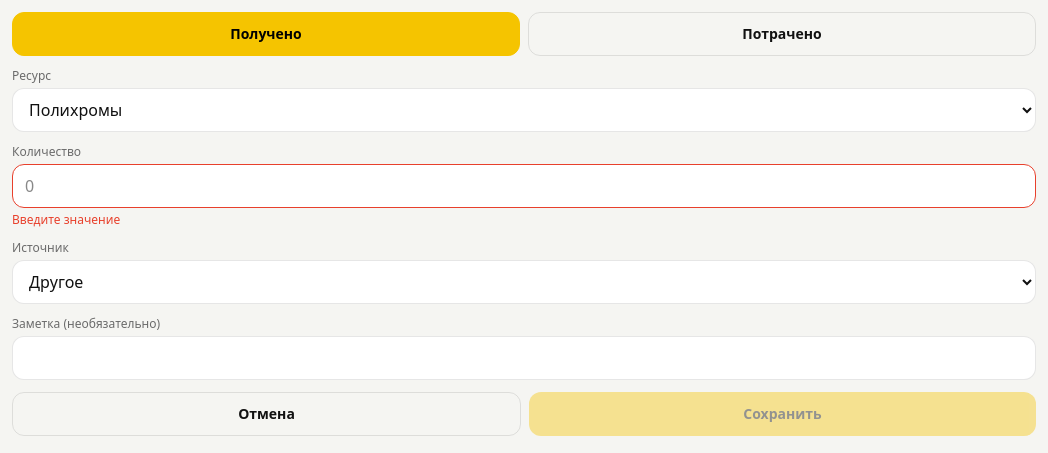
QuickAmountForm › hides the source field when 'Потрачено' is selected (EXPENSE has no source)
Click the radio button labelled "Потрачено".
click(782, 34)  # box [528,12,1036,56]
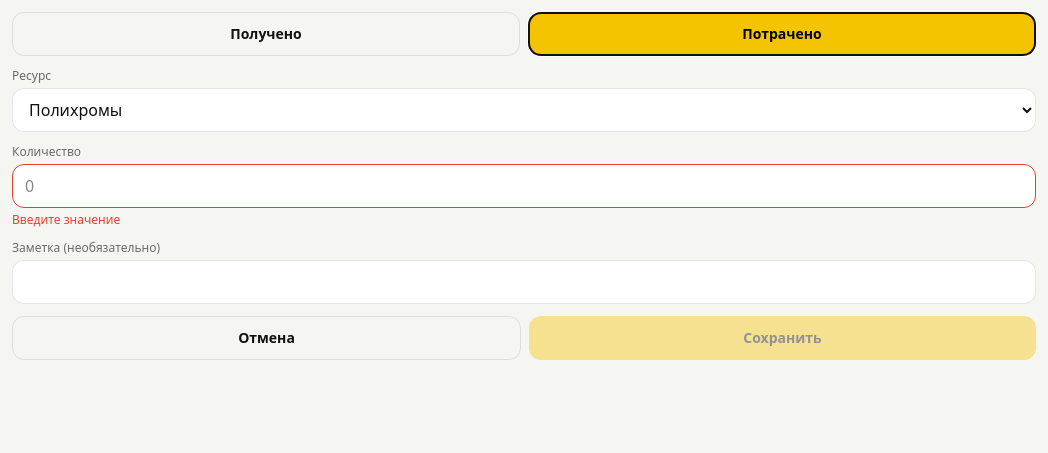
Expected: the label labelled "Источник" is gone
